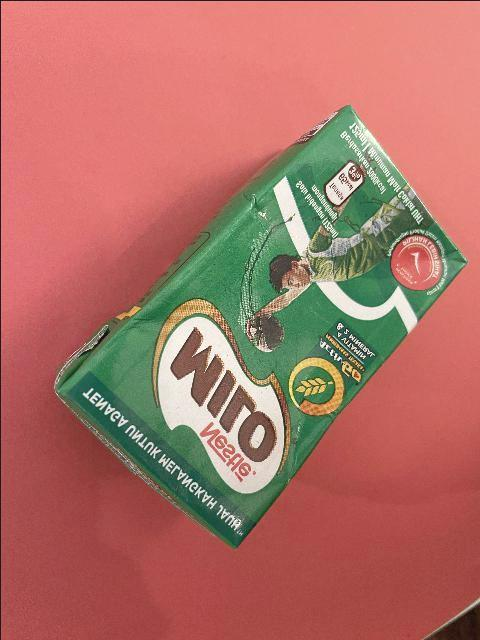drinkpack: (51, 99, 469, 551)
